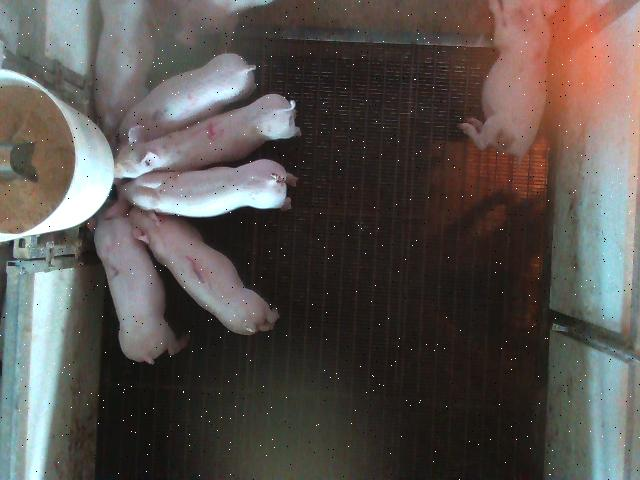pig-1: (129, 208, 279, 335)
pig-3: (459, 2, 558, 161)
pig-4: (115, 94, 298, 178)
